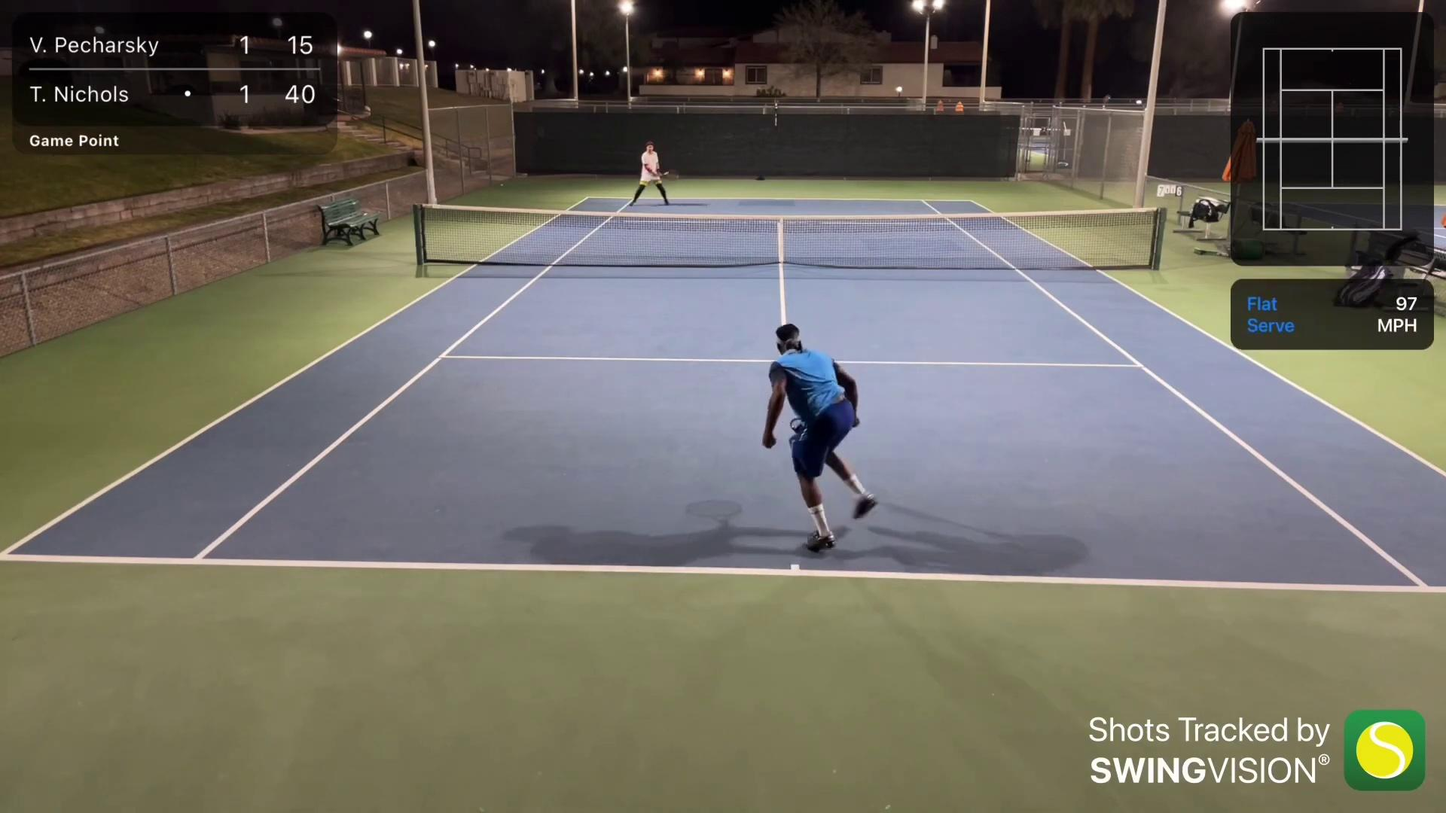ball: (499, 181, 505, 186)
